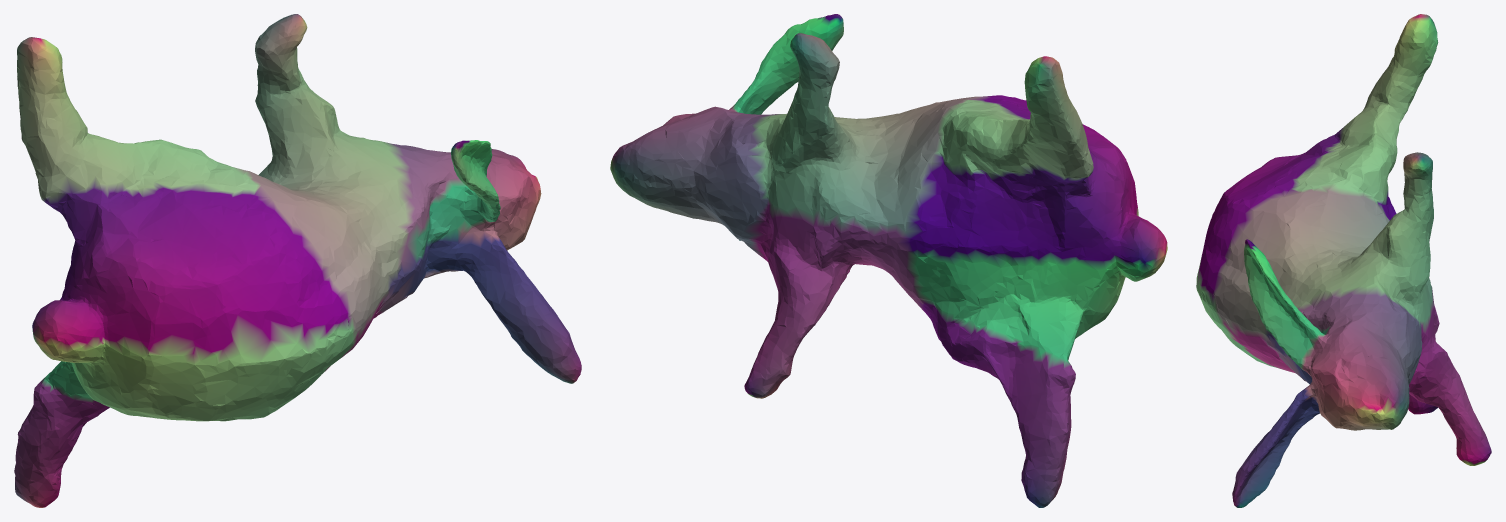
Rendered from rabbit-2.off.obj.
3 renders of one model, left to right at view 1: azimuth 30°, elevation 25°; view 2: azimuth 150°, elevation 25°; view 3: azimuth 270°, elevation 25°, orthographic. The views are drawn at different scales.
Size of the model in its own units: 1.53 by 1.28 by 0.8603.
